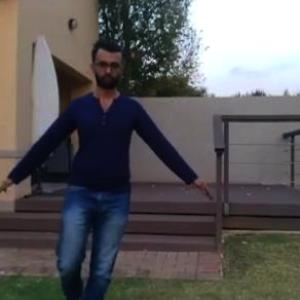land: (8, 48, 185, 299)
